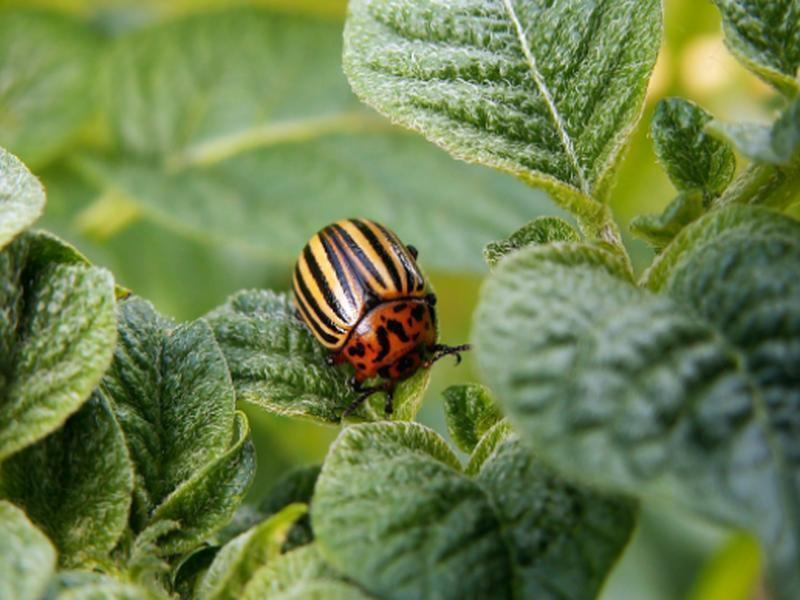hrosc: (280, 205, 449, 377)
